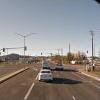Car: (34, 63, 55, 84)
